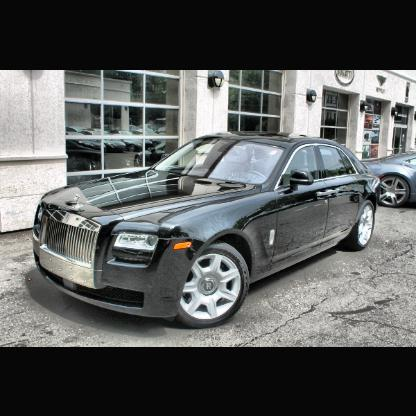Rolls-Royce Ghost Sedan 2012: (34, 130, 385, 331)
